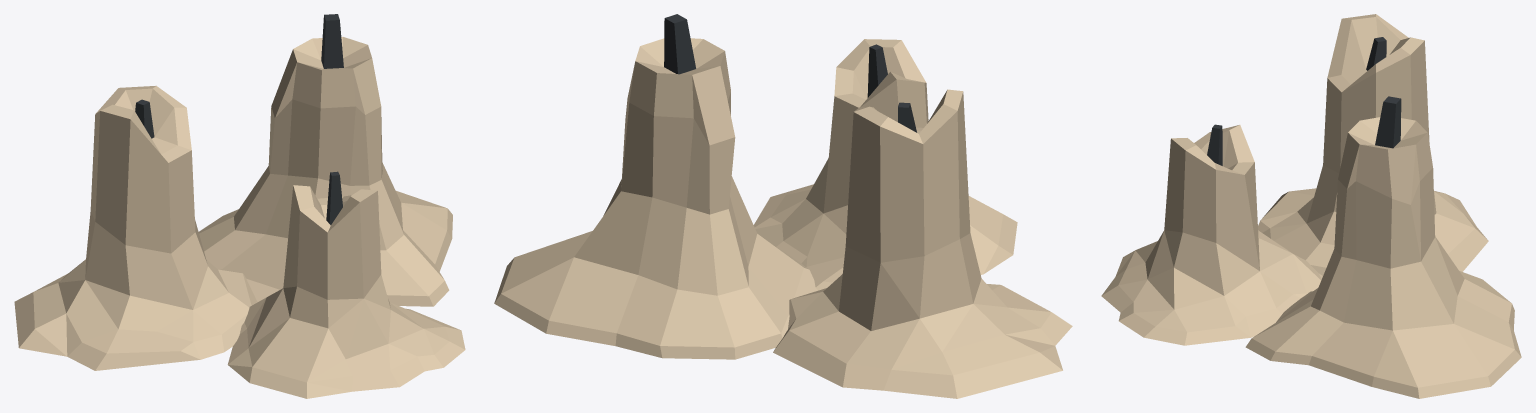
Rendered from SM_Prop_Candle_Melted_Group_01.fbx.
The picture shows the model from 3 angles, left to right: view 1: azimuth 30°, elevation 25°; view 2: azimuth 150°, elevation 25°; view 3: azimuth 270°, elevation 25°; orthographic projection. The views are drawn at different scales.
Parts seen in each view (by area): view 1: SM_Prop_Candle_Melted_Group_01; view 2: SM_Prop_Candle_Melted_Group_01; view 3: SM_Prop_Candle_Melted_Group_01.
Boxes of the visible parts, x1=… form: SM_Prop_Candle_Melted_Group_01: x1=14, y1=14, x2=465, y2=398; SM_Prop_Candle_Melted_Group_01: x1=494, y1=14, x2=1072, y2=398; SM_Prop_Candle_Melted_Group_01: x1=1101, y1=14, x2=1521, y2=398.
Bounding box in the file's own units: 0.3362 × 0.1673 × 0.2717.
Materials: 1 (1 with a texture image).
